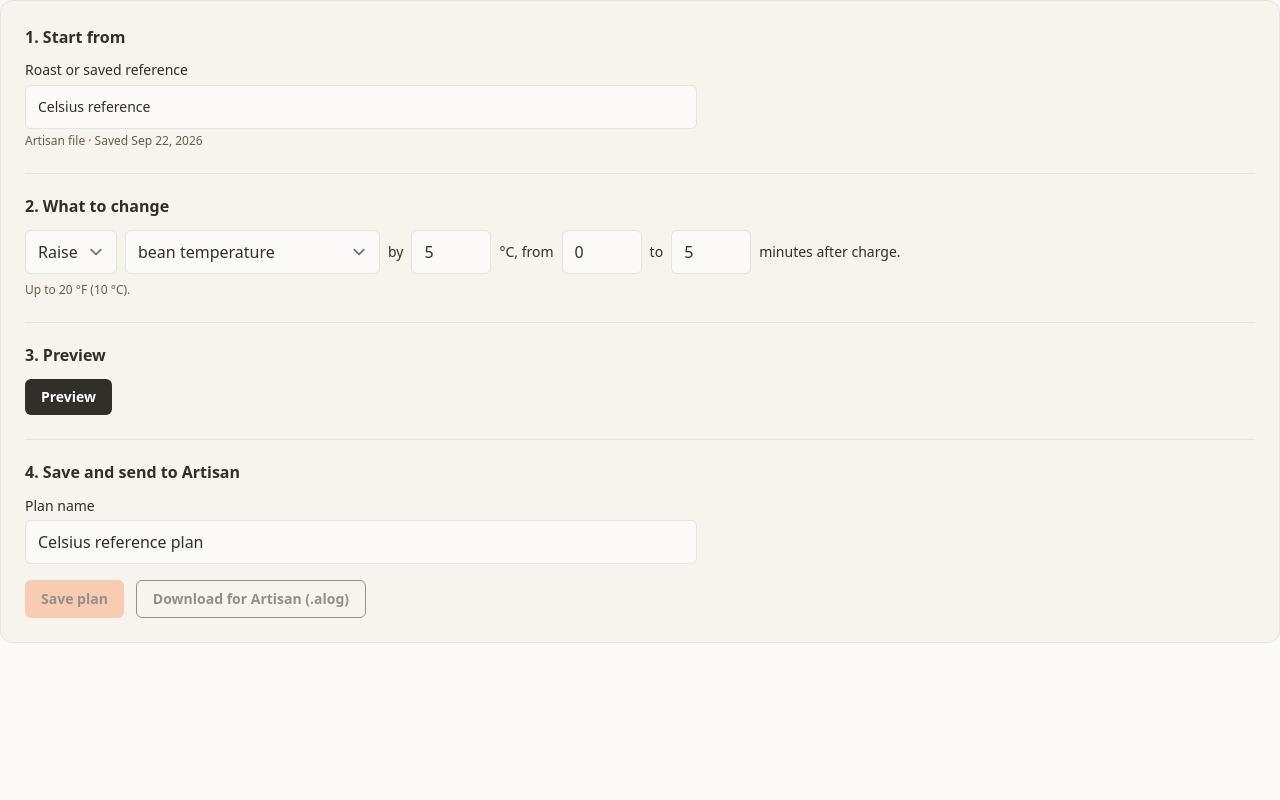
it: planning from a saved reference › limits a Celsius reference to 10 degrees and ignores a late curve for the start before it
Replace the text in the number field named "Degrees" with "15" at coordinates (452, 252), box [412,230,492,274]
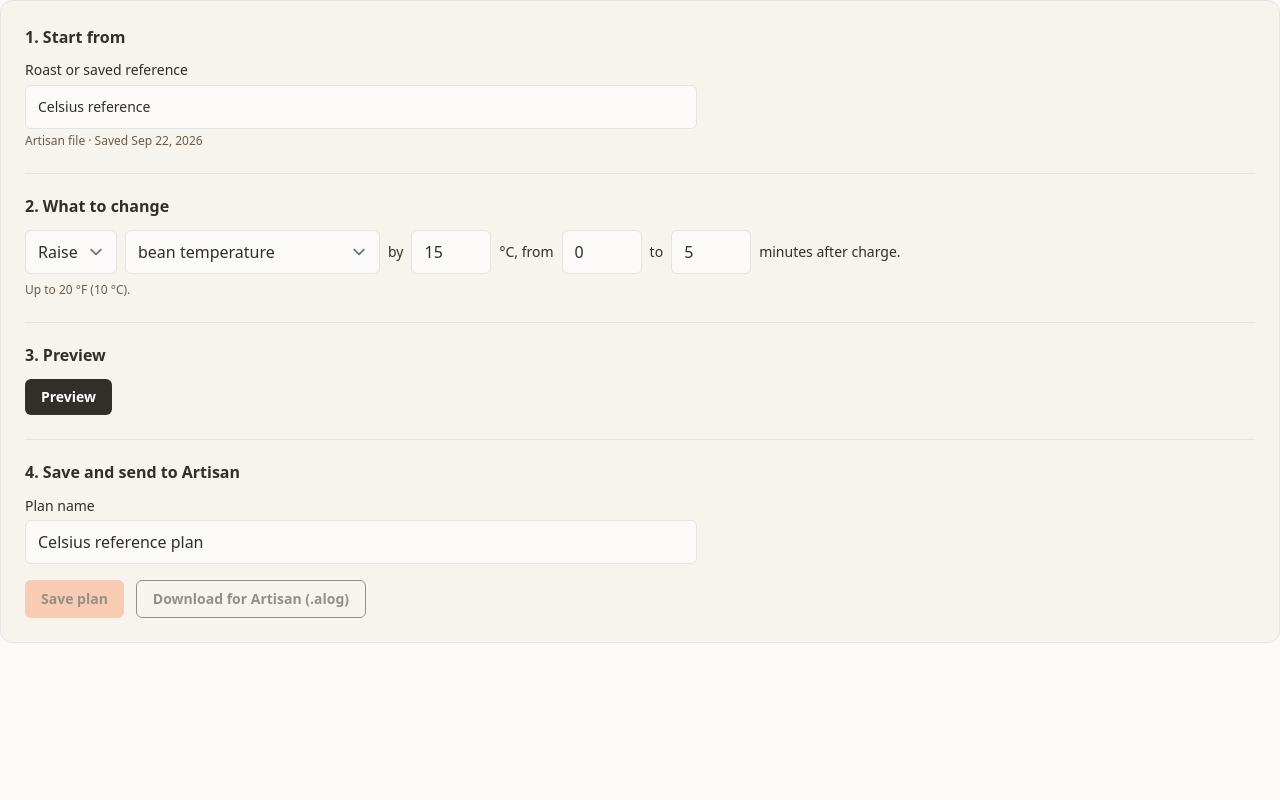
Click the button "Preview" at coordinates (69, 397), box [25,379,112,415]
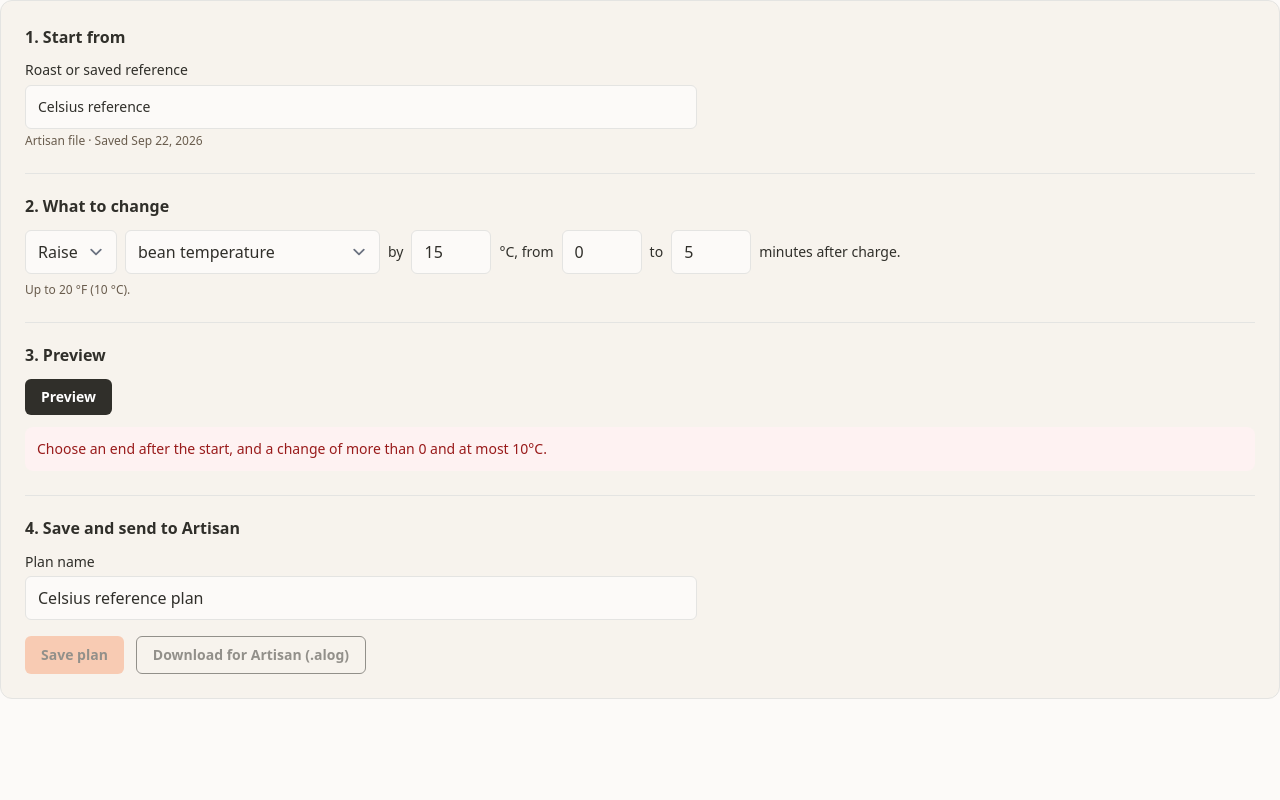
Result: the message shows "at most 10°C" at [37,439,547,458]
